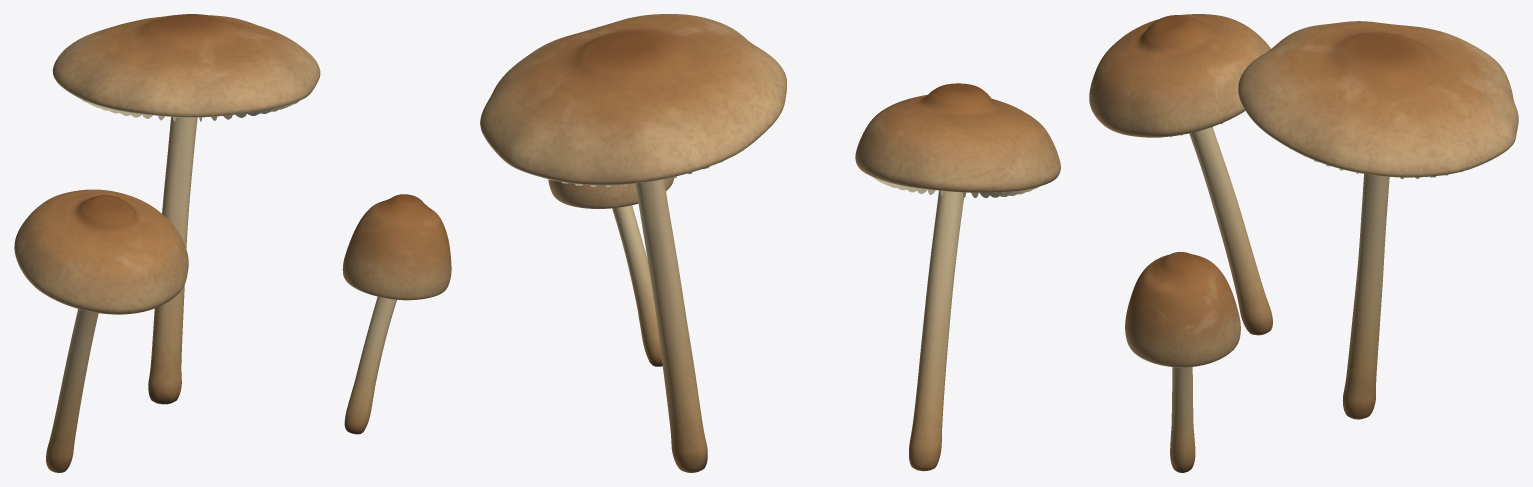
The model's file is marasmius-oreades.glb.
3 renders of one model, left to right at view 1: azimuth 30°, elevation 25°; view 2: azimuth 150°, elevation 25°; view 3: azimuth 270°, elevation 25°, orthographic. The views are drawn at different scales.
Parts seen in each view (by area): view 1: cap-a, cap-b, cap-c, stem-a, stem-b, stem-c, gills-a; view 2: cap-a, cap-b, stem-a, stem-b, stem-c, cap-c, gills-b; view 3: cap-a, cap-b, cap-c, stem-a, stem-b, stem-c.
Boxes of the visible parts, bbox=[...] form: cap-a: bbox=[52, 14, 320, 117]; cap-b: bbox=[14, 189, 188, 314]; cap-c: bbox=[342, 194, 451, 300]; stem-a: bbox=[148, 116, 197, 404]; stem-b: bbox=[46, 309, 98, 472]; stem-c: bbox=[344, 296, 396, 434]; gills-a: bbox=[78, 97, 298, 121]; cap-a: bbox=[480, 14, 786, 185]; cap-b: bbox=[855, 83, 1060, 192]; stem-a: bbox=[635, 179, 707, 472]; stem-b: bbox=[909, 190, 963, 471]; stem-c: bbox=[612, 205, 662, 366]; cap-c: bbox=[548, 177, 673, 208]; gills-b: bbox=[873, 177, 1038, 197]; cap-a: bbox=[1238, 21, 1518, 177]; cap-b: bbox=[1089, 14, 1270, 137]; cap-c: bbox=[1125, 252, 1240, 367]; stem-a: bbox=[1342, 174, 1389, 419]; stem-b: bbox=[1189, 127, 1272, 335]; stem-c: bbox=[1170, 367, 1195, 472].
Bounding box in the file's own units: 0.0828 × 0.0688 × 0.0686.
9 materials, 9 textured.
